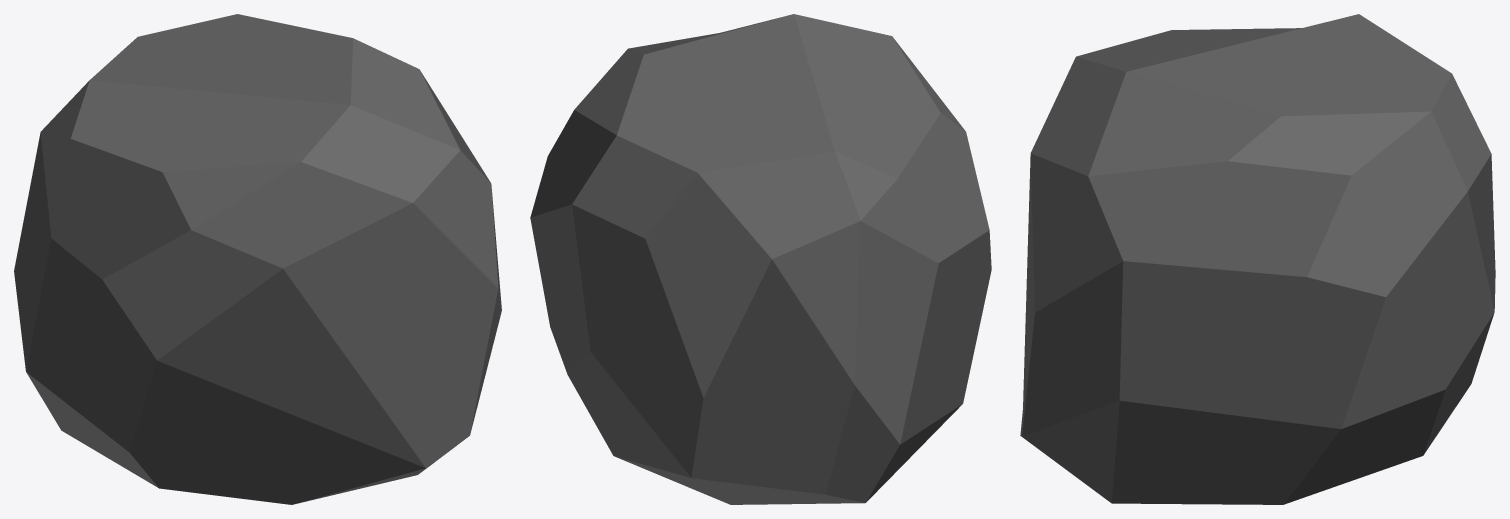
File: EM_Rock01b.fbx
The picture shows the model from 3 angles, left to right: view 1: azimuth 30°, elevation 25°; view 2: azimuth 150°, elevation 25°; view 3: azimuth 270°, elevation 25°; orthographic projection. The views are drawn at different scales.
Visible parts, largest first — view 1: EM_Rock01b_LOD0; view 2: EM_Rock01b_LOD0; view 3: EM_Rock01b_LOD0.
Boxes of the visible parts, <box> form: EM_Rock01b_LOD0: <box>14,14,501,504</box>; EM_Rock01b_LOD0: <box>530,14,991,504</box>; EM_Rock01b_LOD0: <box>1020,14,1495,504</box>.
Size of what is drawn, in the model's own units: 0.8407 by 0.8039 by 0.8622.
